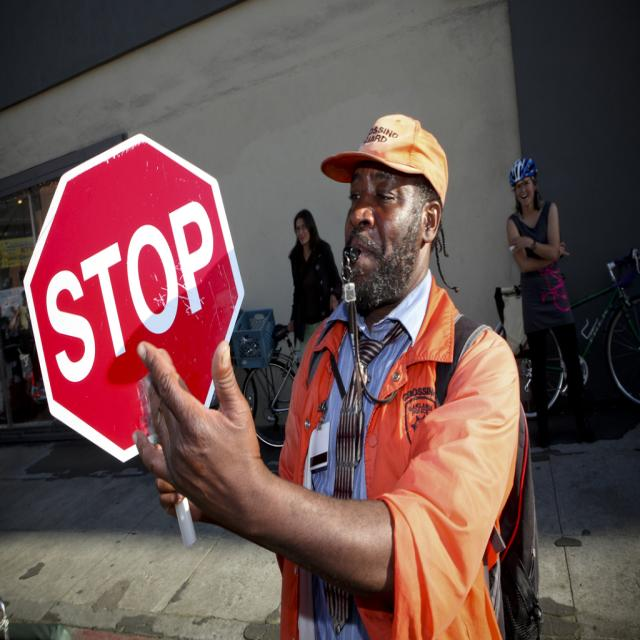Stop-sign: (23, 133, 245, 462)
